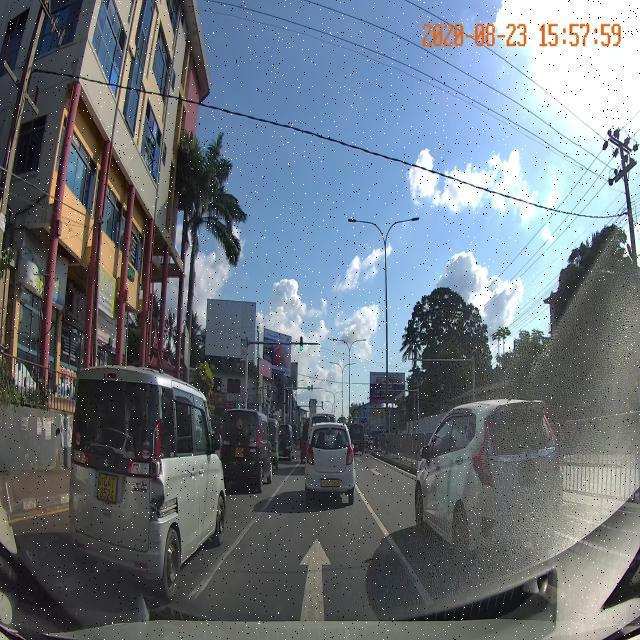forward: (169, 512, 449, 615)
